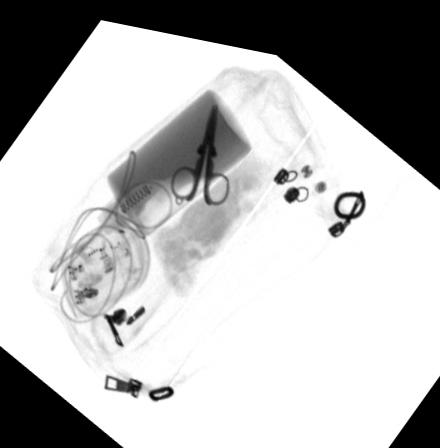Scissors: (167, 96, 231, 197)
